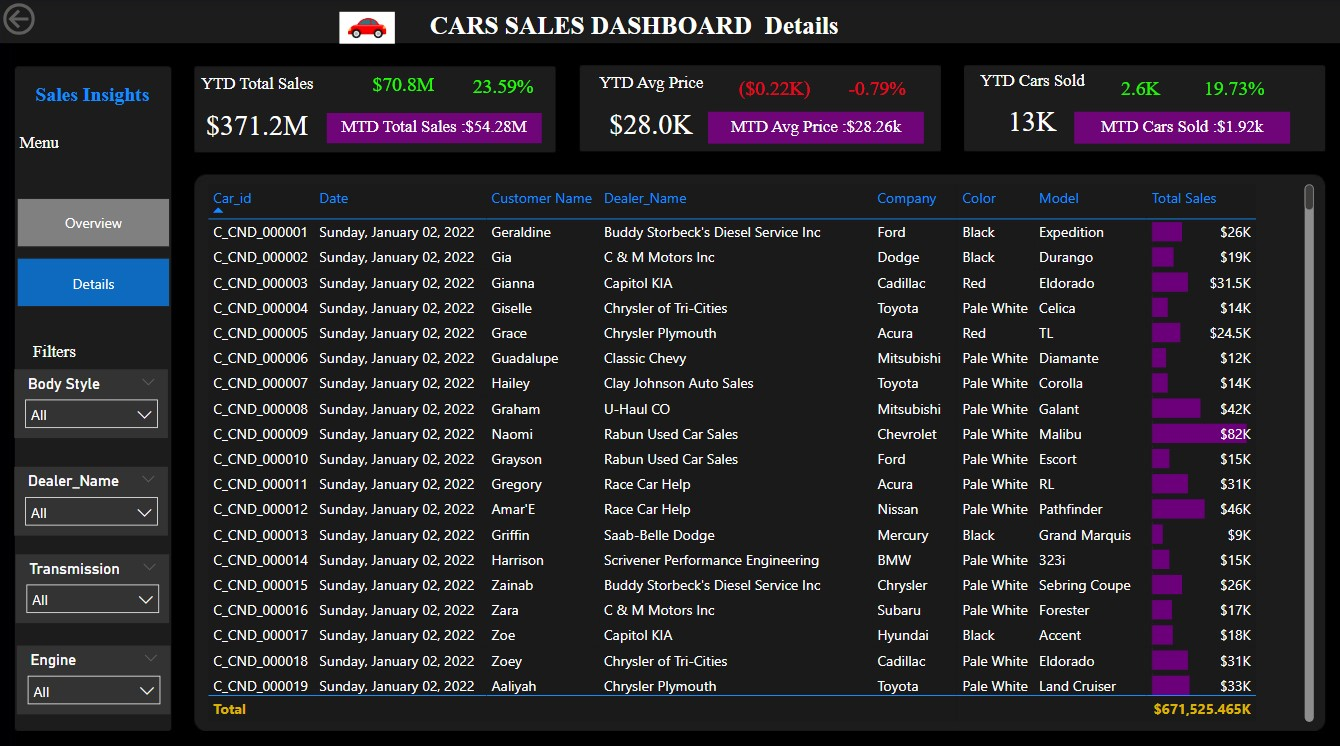

The dashboard page shown, as its layout file describes it:
{"tool":"powerbi","page":{"name":"Details","canvas":[1280,720],"ordinal":1},"visuals":[{"type":"card","title":"YTD Total Sales","fields":{"Values":["car_data.YTD Total Sales"]},"box":[162.5,72.7,169.6,79.8],"z":0},{"type":"card","fields":{"Values":["car_data.Sales Difference"]},"box":[322.1,55.6,126.9,55.6],"z":1000},{"type":"card","fields":{"Values":["car_data.YoY Sales Growth"]},"box":[426.2,57,109.8,55.6],"z":2000},{"type":"card","fields":{"Values":["car_data.MTD KPI"]},"box":[312.9,109.8,204.5,28.8],"z":3000},{"type":"card","title":"YTD Avg Price","fields":{"Values":["car_data.YTD Avg Price"]},"box":[536.5,71.4,170.2,79.6],"z":4000},{"type":"card","fields":{"Values":["car_data.Avg Price Diff"]},"box":[676.5,59,126.2,54.9],"z":5000},{"type":"card","fields":{"Values":["car_data.YoY Avg Price Growth"]},"box":[773.9,59,126.2,54.9],"z":6000},{"type":"card","fields":{"Values":["car_data.MTD Avg Price KPI"]},"box":[676.5,108.4,205.8,30.2],"z":7000},{"type":"card","title":"YTD Cars Sold","fields":{"Values":["car_data.YTD Cars Sold"]},"box":[900.2,68.6,170.2,79.6],"z":8000},{"type":"card","fields":{"Values":["car_data.Cars Sold Diff"]},"box":[1025,59,126.2,54.9],"z":9000},{"type":"card","fields":{"Values":["car_data.YoY Cars Sold Growth"]},"box":[1114.2,59,126.2,54.9],"z":10000},{"type":"actionButton","box":[0,0,100,40],"z":11000},{"type":"card","fields":{"Values":["car_data.MTD Cars Sold KPI"]},"box":[1025,108.4,205.8,30.2],"z":12000},{"type":"textbox","box":[352.4,8.3,507.1,47.6],"z":13000},{"type":"slicer","fields":{"Values":["car_data.Body Style"]},"box":[15.5,353.6,146.4,65.5],"z":14000},{"type":"slicer","fields":{"Values":["car_data.Dealer_Name"]},"box":[15.5,446.4,146.4,65.5],"z":15000},{"type":"slicer","fields":{"Values":["car_data.Transmission"]},"box":[16.7,529.8,146.4,65.5],"z":16000},{"type":"slicer","fields":{"Values":["car_data.Engine"]},"box":[17.9,616.7,146.4,65.5],"z":17000},{"type":"textbox","box":[0,322.6,107.1,31],"z":18000},{"type":"tableEx","fields":{"Values":["car_data.Car_id","car_data.Date","car_data.Customer Name","car_data.Dealer_Name","car_data.Company","car_data.Color","car_data.Model","Sum(car_data.Price ($))"]},"box":[194,172.6,1064.3,521.4],"z":19000},{"type":"textbox","box":[26.2,76.2,127.4,36.9],"z":20000},{"type":"textbox","box":[15.5,123.8,83.3,28.6],"z":21000},{"type":"pageNavigator","box":[17.9,190.5,146.4,106],"z":22000},{"type":"image","box":[306,8.3,91.7,40.5],"z":23000}]}

Visuals, with their boxes on the page's 1280x720 design canvas (x1, y1, x2, y2). These are canvas units, not pixel positions in the 1340x746 screenshot, which may show the page scaled, cropped or inside an application window:
"YTD Total Sales" card: pyautogui.locateOnScreen(162, 73, 332, 152)
card - car_data.Sales Difference: pyautogui.locateOnScreen(322, 56, 449, 111)
card - car_data.YoY Sales Growth: pyautogui.locateOnScreen(426, 57, 536, 113)
card - car_data.MTD KPI: pyautogui.locateOnScreen(313, 110, 517, 139)
"YTD Avg Price" card: pyautogui.locateOnScreen(536, 71, 707, 151)
card - car_data.Avg Price Diff: pyautogui.locateOnScreen(676, 59, 803, 114)
card - car_data.YoY Avg Price Growth: pyautogui.locateOnScreen(774, 59, 900, 114)
card - car_data.MTD Avg Price KPI: pyautogui.locateOnScreen(676, 108, 882, 139)
"YTD Cars Sold" card: pyautogui.locateOnScreen(900, 69, 1070, 148)
card - car_data.Cars Sold Diff: pyautogui.locateOnScreen(1025, 59, 1151, 114)
card - car_data.YoY Cars Sold Growth: pyautogui.locateOnScreen(1114, 59, 1240, 114)
actionButton: pyautogui.locateOnScreen(0, 0, 100, 40)
card - car_data.MTD Cars Sold KPI: pyautogui.locateOnScreen(1025, 108, 1231, 139)
textbox: pyautogui.locateOnScreen(352, 8, 860, 56)
slicer - car_data.Body Style: pyautogui.locateOnScreen(16, 354, 162, 419)
slicer - car_data.Dealer_Name: pyautogui.locateOnScreen(16, 446, 162, 512)
slicer - car_data.Transmission: pyautogui.locateOnScreen(17, 530, 163, 595)
slicer - car_data.Engine: pyautogui.locateOnScreen(18, 617, 164, 682)
textbox: pyautogui.locateOnScreen(0, 323, 107, 354)
tableEx - car_data.Car_id x car_data.Date: pyautogui.locateOnScreen(194, 173, 1258, 694)
textbox: pyautogui.locateOnScreen(26, 76, 154, 113)
textbox: pyautogui.locateOnScreen(16, 124, 99, 152)
pageNavigator: pyautogui.locateOnScreen(18, 190, 164, 296)
image: pyautogui.locateOnScreen(306, 8, 398, 49)
